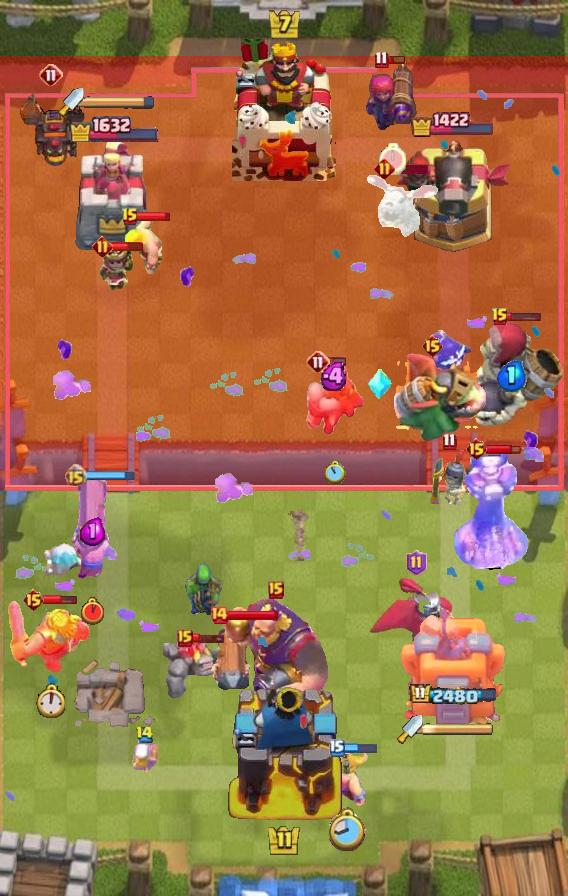archer: (122, 218, 164, 274)
archer-evolution: (14, 87, 88, 169)
bar: (401, 601, 505, 731), (73, 140, 155, 256)
bat: (41, 543, 87, 577)
battle-healer: (69, 476, 115, 580), (210, 615, 254, 699)
bomber-evolution: (95, 242, 139, 294)
electro-dragon: (452, 448, 530, 576)
electro-giant: (454, 320, 568, 428)
electro-spirit: (497, 360, 527, 392), (320, 362, 350, 391), (80, 518, 105, 546)
elite-barbarian: (305, 362, 365, 436)
elixir: (329, 807, 367, 853), (35, 683, 65, 717), (379, 143, 406, 175), (81, 597, 104, 625), (325, 461, 346, 484)
emote: (84, 470, 136, 482), (227, 609, 279, 621), (343, 741, 378, 754), (486, 443, 522, 455), (190, 632, 226, 644), (43, 594, 78, 606), (506, 311, 541, 322), (137, 210, 171, 221), (110, 241, 144, 252), (392, 164, 428, 174), (386, 54, 406, 65), (328, 357, 347, 368)
fisherman: (287, 509, 313, 561)
giant-snowball: (184, 561, 224, 619)
goblin-giant: (326, 750, 370, 806)
goblin-hut: (7, 596, 93, 674)
heal-spirit: (130, 744, 158, 776)
king-tower: (223, 680, 345, 826), (232, 39, 336, 181)
king-tower-bar: (84, 95, 156, 109), (423, 722, 495, 736)
lightning: (220, 595, 331, 707)
mega-minion: (366, 58, 418, 130)
mini-pekka: (362, 173, 440, 241)
night-witch: (376, 350, 488, 446)
pad_2: (367, 368, 393, 400)
princess: (430, 448, 468, 506)
selected: (67, 113, 160, 142), (410, 111, 496, 138), (410, 683, 499, 707)
spear-goblin: (426, 328, 474, 376)
text: (39, 63, 63, 87), (306, 350, 330, 374), (420, 334, 443, 358), (464, 437, 487, 461), (65, 464, 88, 488), (22, 588, 45, 612), (405, 550, 426, 576), (373, 157, 394, 179), (91, 236, 112, 257), (209, 605, 229, 625), (134, 724, 154, 743), (121, 207, 139, 227), (491, 307, 509, 327), (268, 581, 284, 599), (177, 629, 193, 647), (329, 739, 345, 757), (442, 433, 457, 452), (375, 50, 389, 69)
tower-bar: (392, 138, 514, 256)
valkyrie-evolution: (162, 637, 228, 699)
wall-breaker-evolution: (367, 576, 465, 662)
